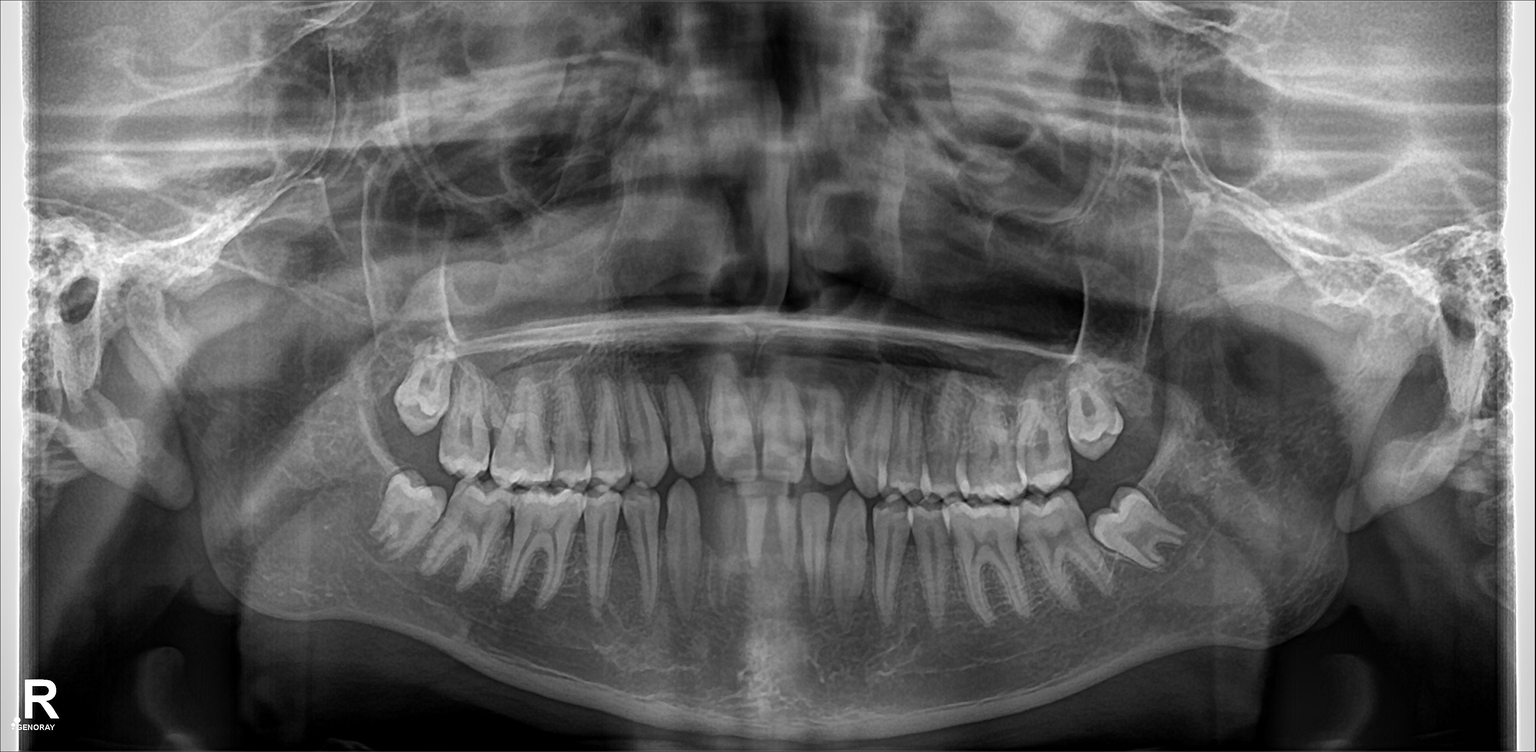Impacted Third Molar: (374, 469, 447, 557), (1101, 493, 1184, 565), (387, 357, 450, 426), (1067, 376, 1116, 454)
Missing Tooth: (1117, 352, 1170, 450)
